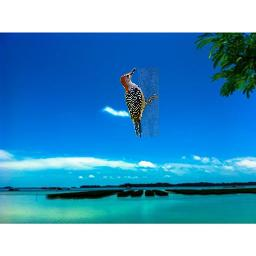Woodpecker: (118, 67, 159, 137)
